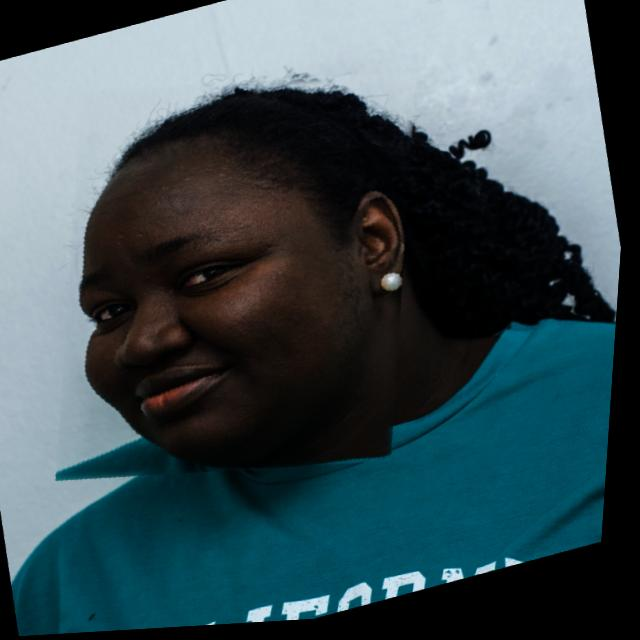happy: (1, 25, 478, 534), (21, 103, 28, 120)
